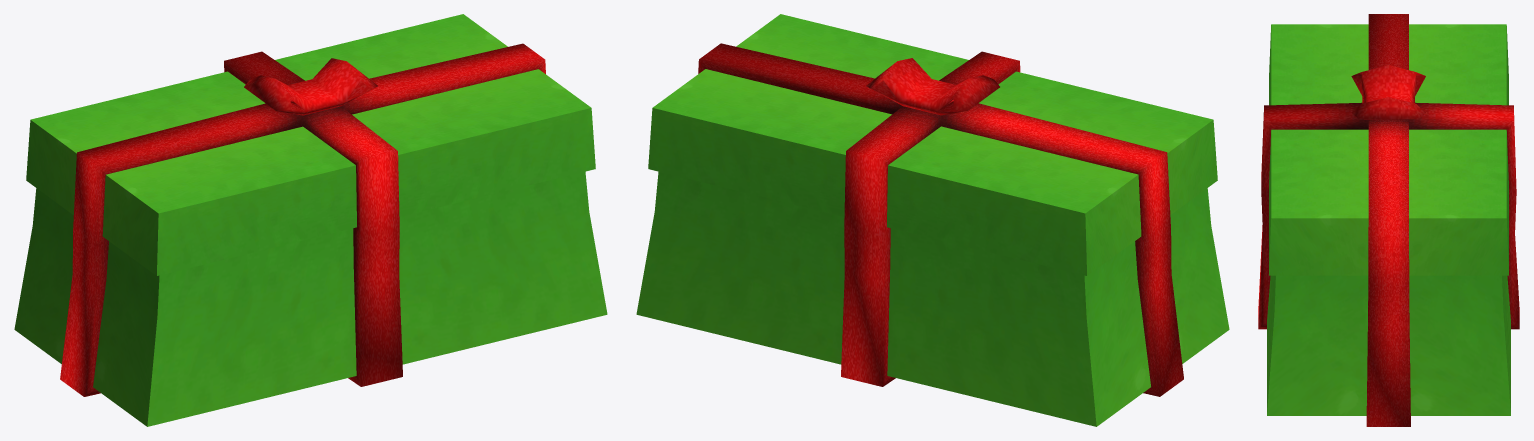
File: present2.DAE
The picture shows the model from 3 angles, left to right: view 1: azimuth 30°, elevation 25°; view 2: azimuth 150°, elevation 25°; view 3: azimuth 270°, elevation 25°; orthographic projection. The views are drawn at different scales.
Parts seen in each view (by area): view 1: MESH02; view 2: MESH02; view 3: MESH02.
Part boxes in pixels (x1=…): MESH02: x1=14, y1=14, x2=607, y2=426; MESH02: x1=636, y1=14, x2=1229, y2=426; MESH02: x1=1258, y1=14, x2=1519, y2=426.
Bounding box in the file's own units: 0.413 × 0.213 × 0.2173.
Materials: 1 (1 with a texture image).
